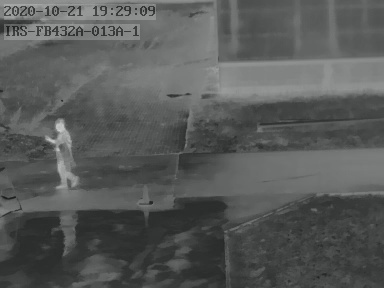person: (45, 118, 79, 190)
